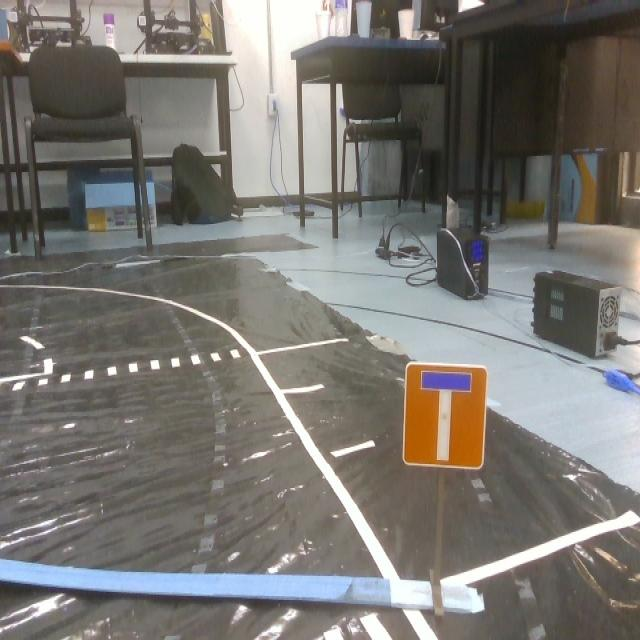stop: (405, 358, 484, 478)
